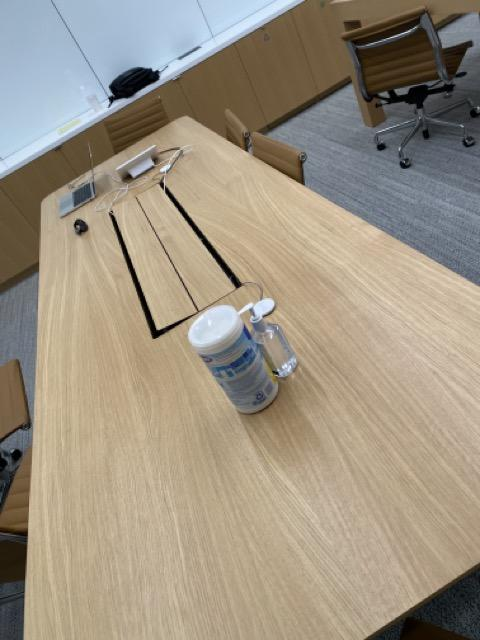Sunglasses: (73, 218, 90, 238)
